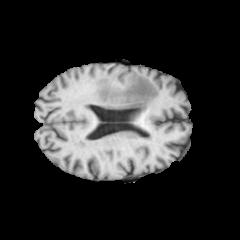glioma: (94, 74, 158, 109)
